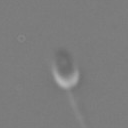normal: (50, 89, 92, 128)
